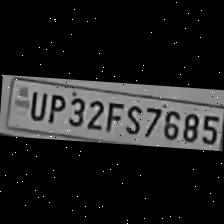2: (84, 94, 104, 130)
3: (64, 92, 86, 126)
5: (198, 110, 220, 144)
6: (158, 105, 181, 139)
7: (140, 102, 161, 138)
8: (178, 107, 198, 141)
F: (102, 96, 122, 132)
P: (44, 89, 65, 123)
S: (120, 100, 142, 134)
U: (26, 87, 48, 120)
